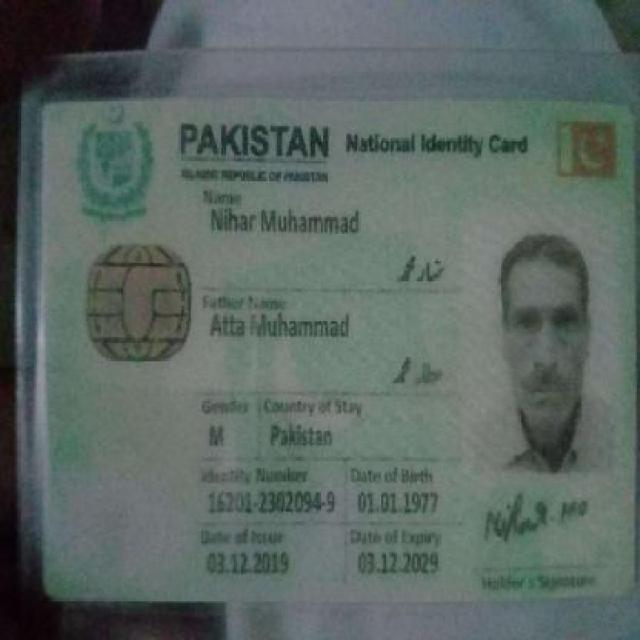Front: (30, 97, 632, 591)
